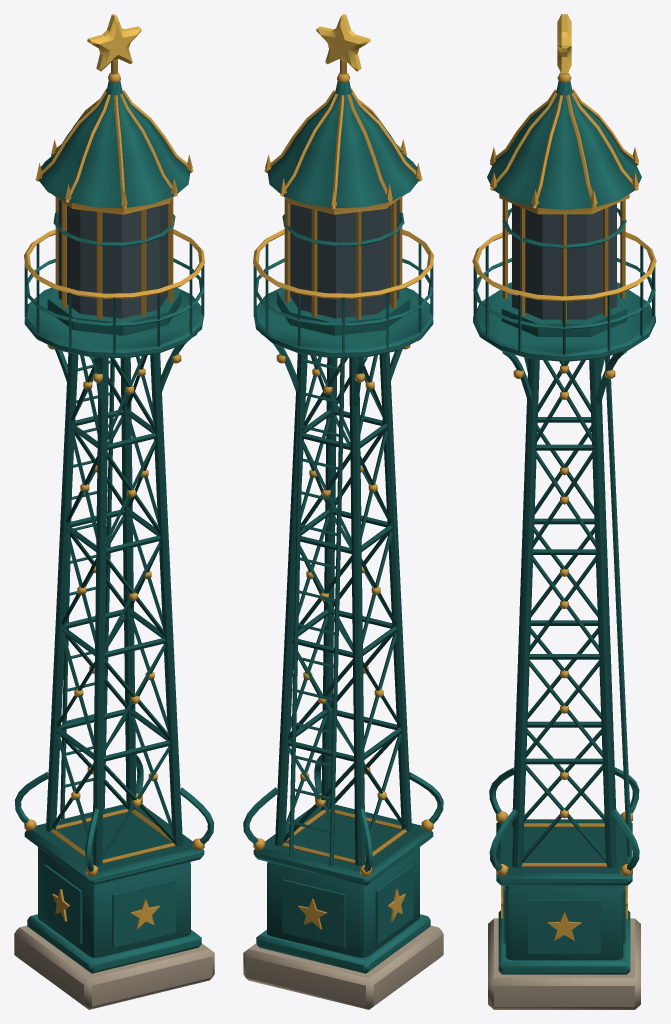
File: lamp-viaduct.glb
3 renders of one model, left to right at view 1: azimuth 30°, elevation 25°; view 2: azimuth 150°, elevation 25°; view 3: azimuth 270°, elevation 25°, orthographic.
Parts seen in each view (by area): view 1: lamp-viaduct Lamp iron, lamp-viaduct Brass, lamp-viaduct Lamp glass, lamp-viaduct Viaduct stone, lamp-viaduct Lamp star; view 2: lamp-viaduct Lamp iron, lamp-viaduct Brass, lamp-viaduct Lamp glass, lamp-viaduct Viaduct stone, lamp-viaduct Lamp star; view 3: lamp-viaduct Lamp iron, lamp-viaduct Brass, lamp-viaduct Lamp glass, lamp-viaduct Viaduct stone, lamp-viaduct Lamp star.
Part boxes in pixels (left/top/right/bottom): lamp-viaduct Lamp iron: left=14, top=81, right=214, bottom=973; lamp-viaduct Brass: left=24, top=59, right=204, bottom=929; lamp-viaduct Lamp glass: left=58, top=199, right=167, bottom=318; lamp-viaduct Viaduct stone: left=14, top=925, right=214, bottom=1009; lamp-viaduct Lamp star: left=87, top=14, right=141, bottom=71; lamp-viaduct Lamp iron: left=243, top=81, right=443, bottom=973; lamp-viaduct Brass: left=253, top=59, right=433, bottom=929; lamp-viaduct Lamp glass: left=290, top=199, right=399, bottom=318; lamp-viaduct Viaduct stone: left=243, top=925, right=443, bottom=1009; lamp-viaduct Lamp star: left=316, top=14, right=370, bottom=71; lamp-viaduct Lamp iron: left=473, top=81, right=655, bottom=974; lamp-viaduct Brass: left=472, top=72, right=656, bottom=940; lamp-viaduct Lamp glass: left=512, top=203, right=616, bottom=319; lamp-viaduct Viaduct stone: left=488, top=918, right=640, bottom=1009; lamp-viaduct Lamp star: left=557, top=14, right=571, bottom=73.
Size of the model in its own units: 1.57 by 9.07 by 1.57.
